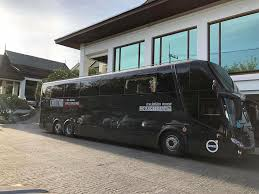bus: (39, 59, 253, 160)
